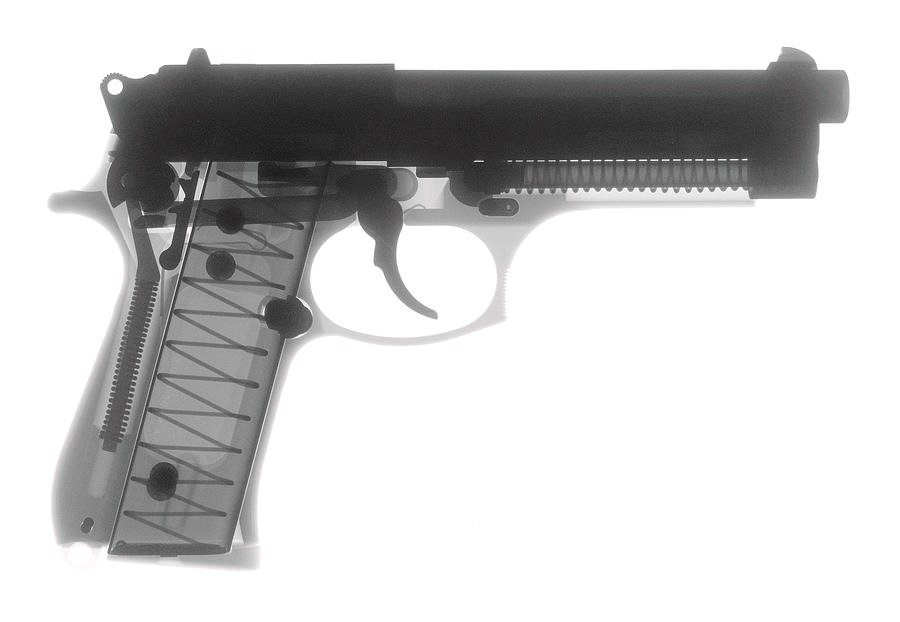gun: (47, 38, 855, 574)
